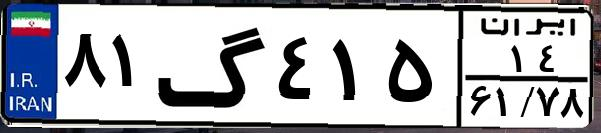1: (330, 28, 385, 110), (110, 28, 156, 98), (508, 27, 537, 80), (495, 70, 520, 125)
4: (270, 28, 330, 110), (537, 27, 568, 80)
5: (385, 28, 445, 110)
6: (470, 70, 495, 125)
7: (535, 70, 560, 125)
8: (57, 26, 110, 100), (560, 70, 590, 125)
گ: (156, 12, 270, 120)
